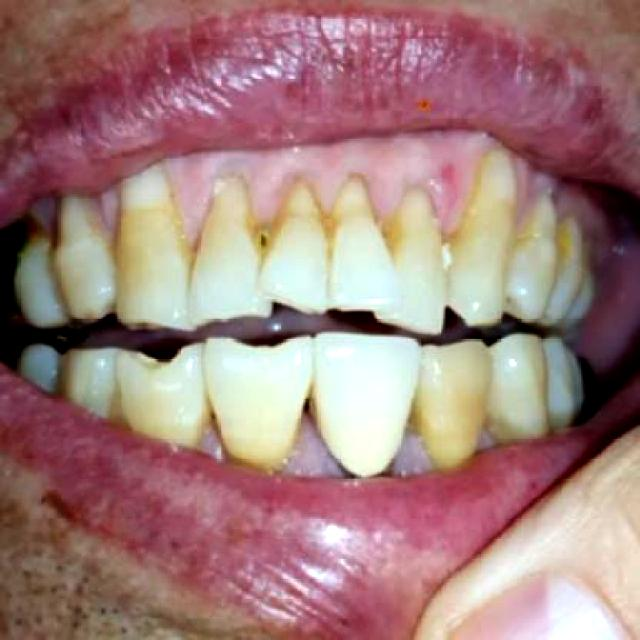Plaque: (167, 137, 498, 240), (286, 411, 338, 476), (397, 425, 432, 475), (26, 198, 55, 239), (91, 192, 114, 242)
